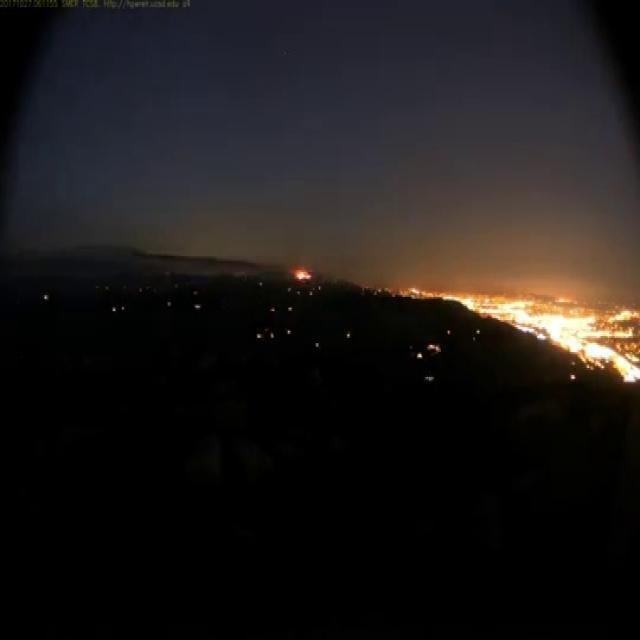Fire: (293, 267, 313, 281)
